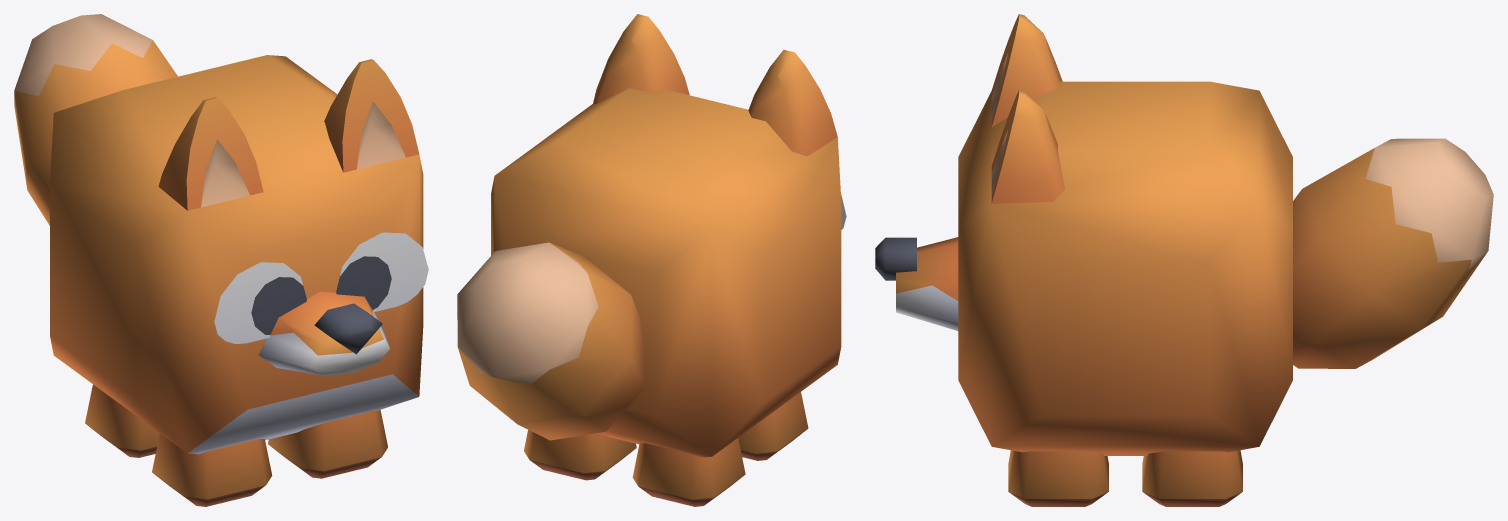
Rendered from seri 1 model 1(tilki).glb.
The picture shows the model from 3 angles, left to right: view 1: azimuth 30°, elevation 25°; view 2: azimuth 150°, elevation 25°; view 3: azimuth 270°, elevation 25°; orthographic projection. The views are drawn at different scales.
Visible parts, largest first — view 1: body, tail, leg-front-right, leg-front-left, leg-back-right; view 2: body, tail, leg-back-right, leg-back-left, leg-front-right; view 3: body, tail, leg-front-left, leg-back-left.
Part boxes in pixels (bbox=[...]): body: bbox=[50, 55, 428, 454]; tail: bbox=[14, 14, 177, 225]; leg-front-right: bbox=[152, 433, 272, 506]; leg-front-left: bbox=[268, 409, 387, 478]; leg-back-right: bbox=[85, 384, 159, 457]; body: bbox=[491, 14, 846, 457]; tail: bbox=[457, 242, 645, 440]; leg-back-right: bbox=[632, 438, 745, 506]; leg-back-left: bbox=[524, 429, 636, 480]; leg-front-right: bbox=[738, 392, 808, 460]; body: bbox=[875, 14, 1292, 455]; tail: bbox=[1293, 138, 1493, 368]; leg-front-left: bbox=[1008, 450, 1108, 506]; leg-back-left: bbox=[1142, 450, 1242, 506].
Bounding box in the file's own units: 1.25 × 1.69 × 2.31.
Materials: 1 (1 with a texture image).
